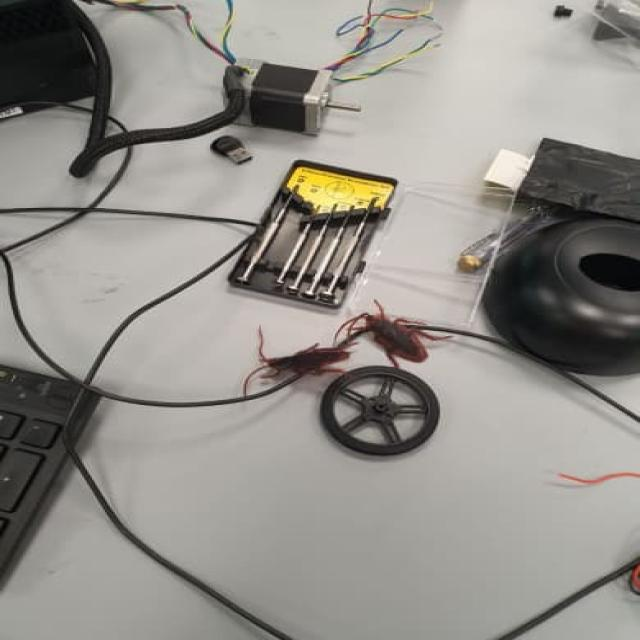Cockroach: (341, 294, 453, 377), (233, 326, 359, 395)
